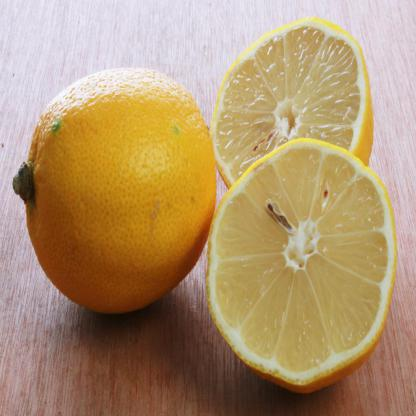Lemon: (12, 61, 218, 320), (206, 140, 398, 394), (209, 21, 372, 189)
